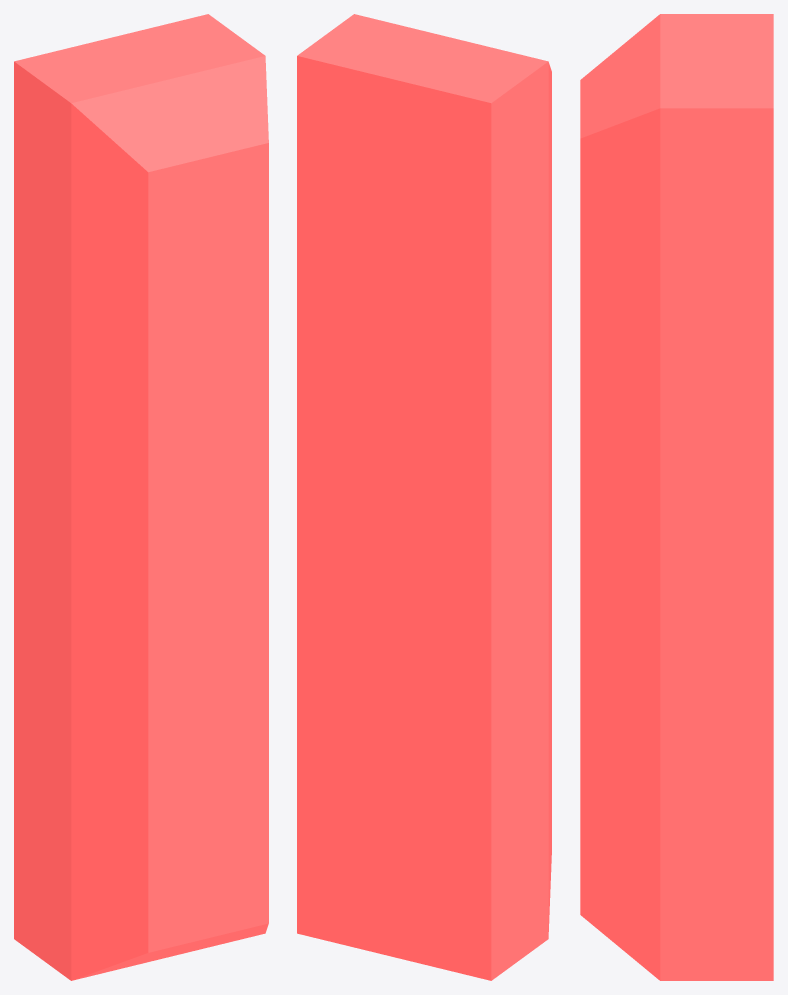
File: RedLight.fbx
3 renders of one model, left to right at view 1: azimuth 30°, elevation 25°; view 2: azimuth 150°, elevation 25°; view 3: azimuth 270°, elevation 25°, orthographic.
Visible parts, largest first — view 1: pCube1; view 2: pCube1; view 3: pCube1.
Boxes of the visible parts, left/top/right/bottom form: pCube1: left=14, top=14, right=268, bottom=980; pCube1: left=297, top=14, right=551, bottom=980; pCube1: left=580, top=14, right=773, bottom=980.
Size of the model in its own units: 0.6676 by 2.88 by 0.5794.
